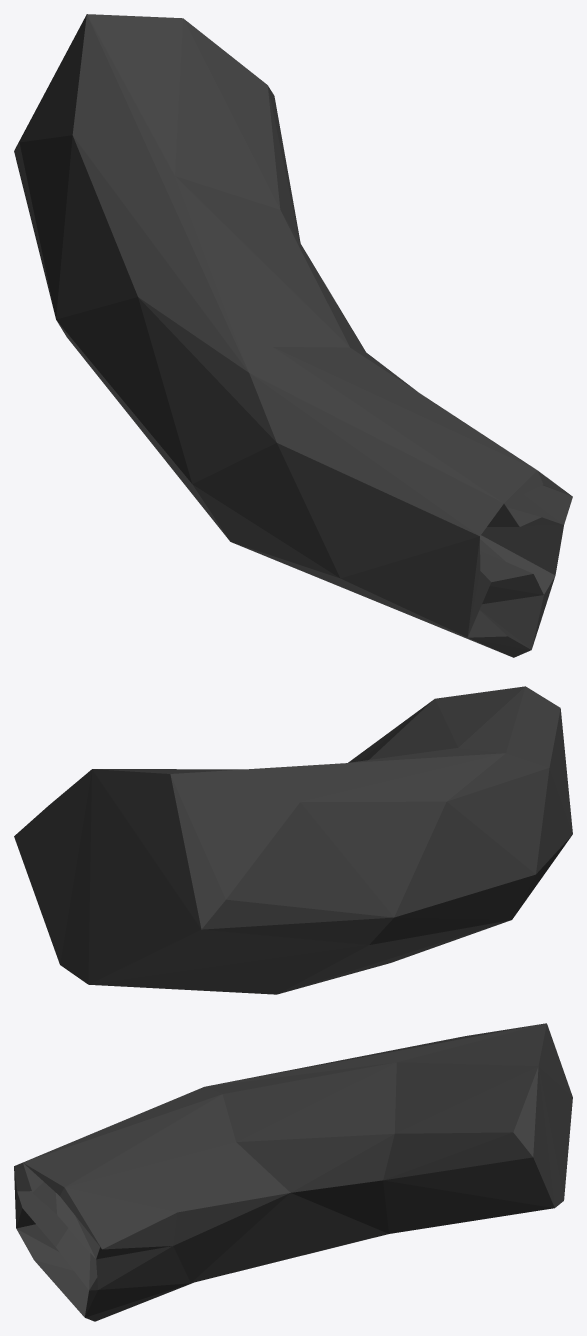
The picture shows the model from 3 angles, top to bottom: view 1: azimuth 30°, elevation 25°; view 2: azimuth 150°, elevation 25°; view 3: azimuth 270°, elevation 25°; orthographic projection. The views are drawn at different scales.
Parts seen in each view (by area): view 1: world; view 2: world; view 3: world.
Boxes of the visible parts, x1,y1,x2,y2 form: world: (14, 14, 572, 657); world: (14, 686, 572, 994); world: (14, 1023, 572, 1321).
Size of the model in its own units: 0.1875 by 0.2314 by 0.4316.
1 material, 1 textured.
